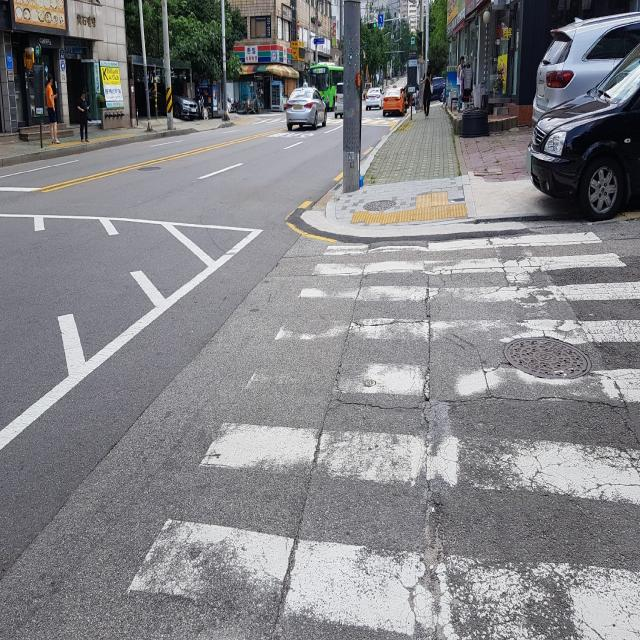횡단보도: (124, 231, 640, 640)
